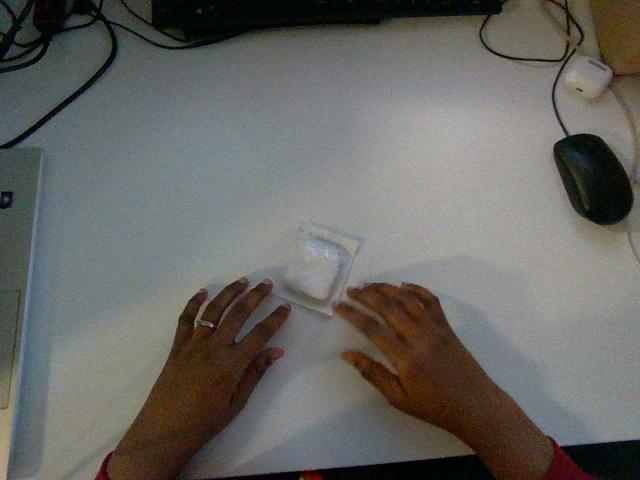gauze: (280, 223, 361, 314)
